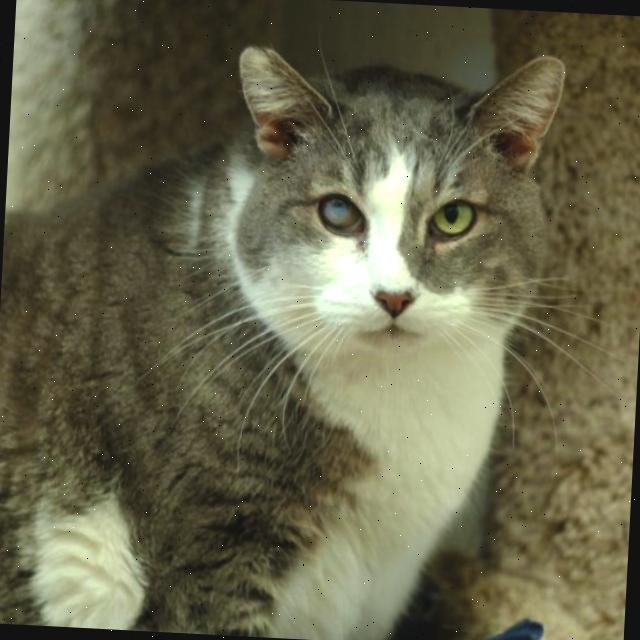domestic_short_hair_cat: (170, 6, 614, 412)
